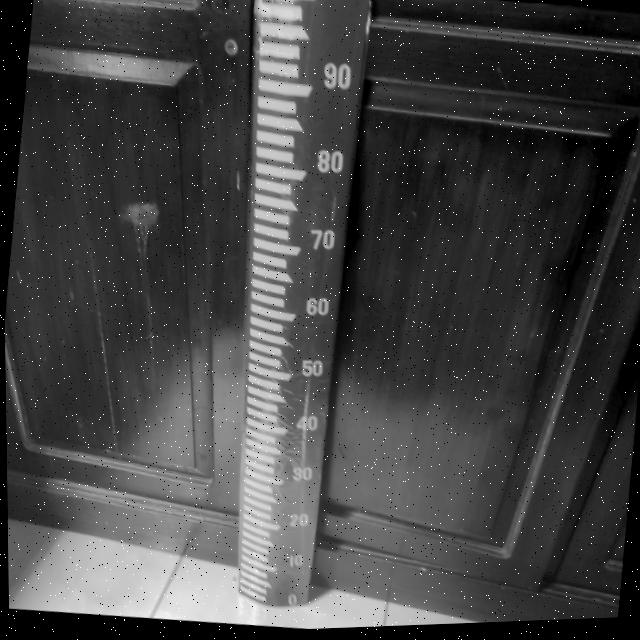water-meter: (171, 0, 393, 626)
